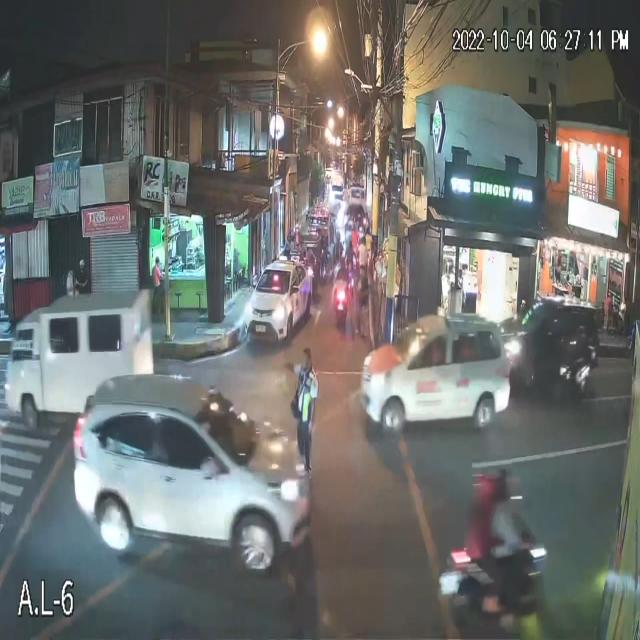Full-Faced: (484, 462, 506, 498), (472, 467, 490, 501)
